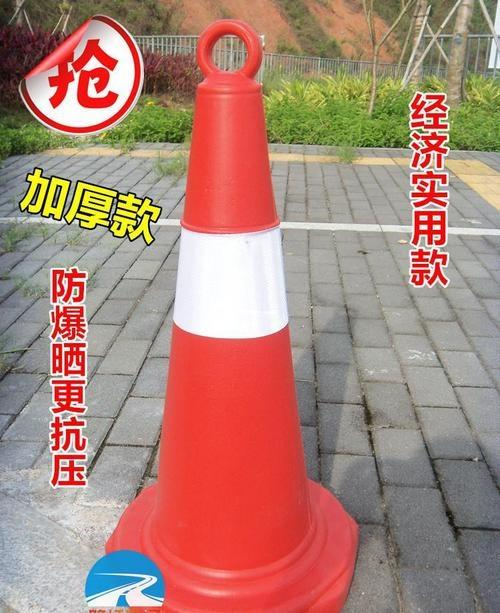cone_barrel: (127, 50, 327, 601)
